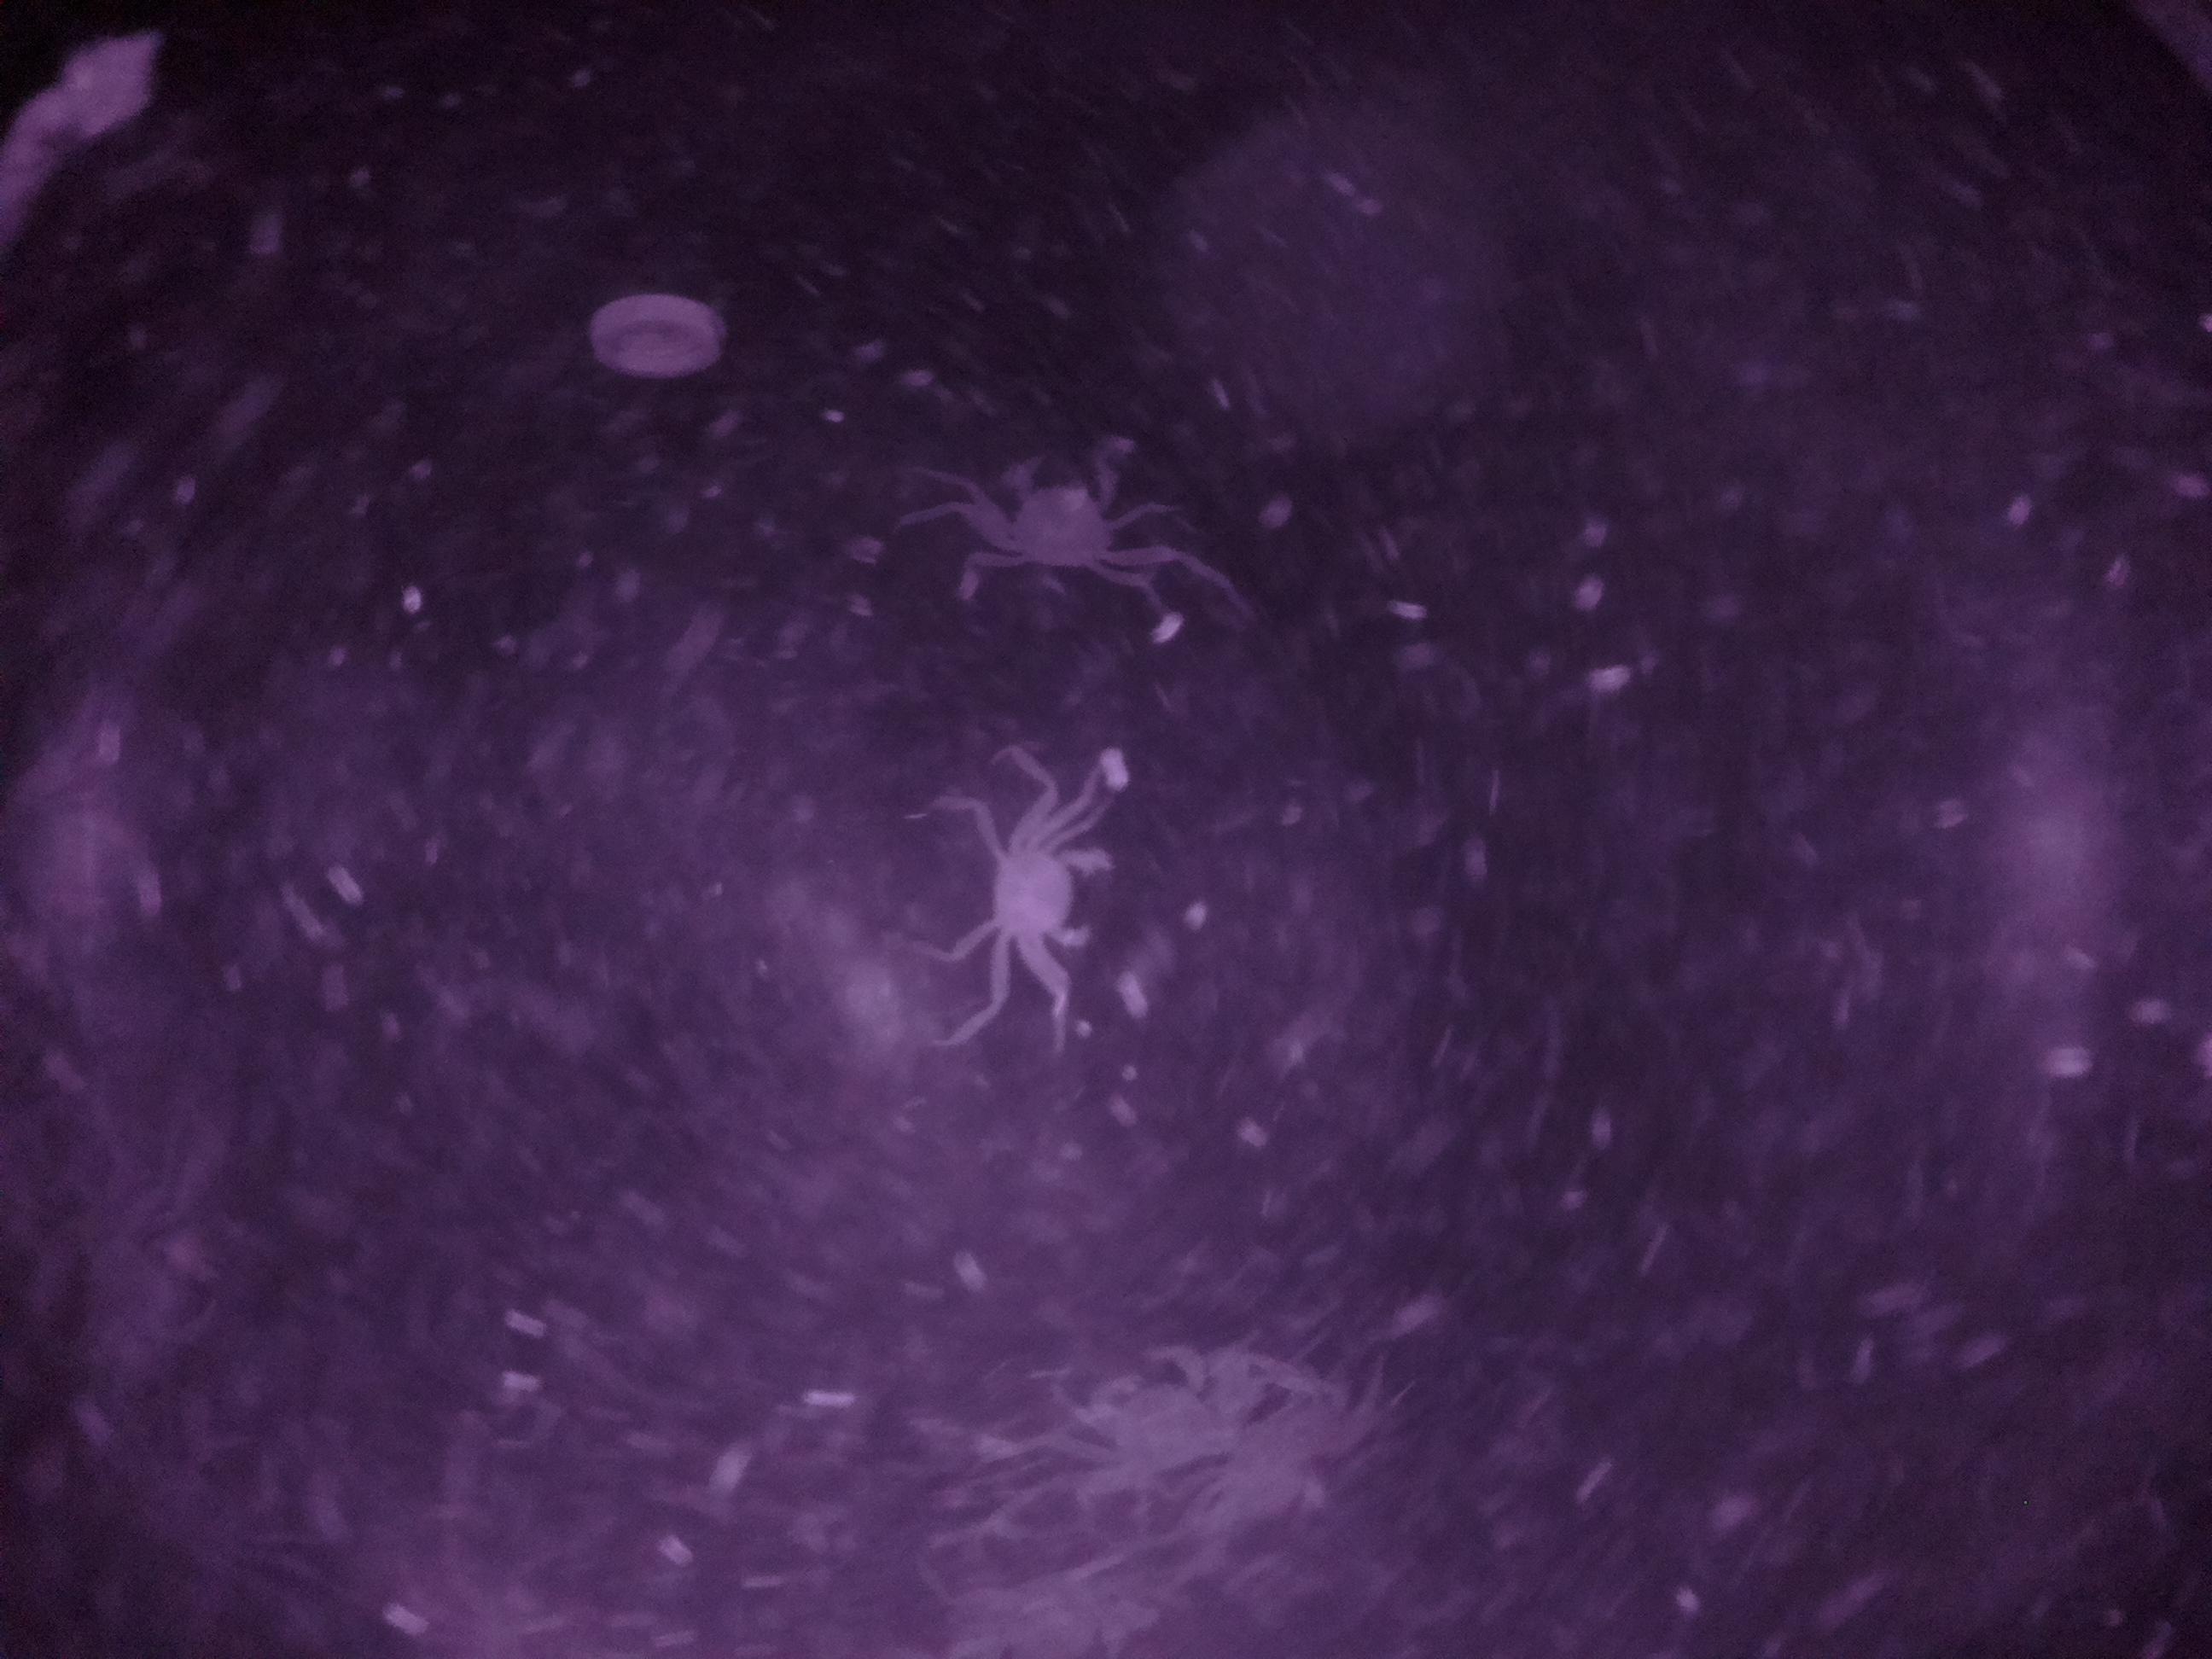Crab: (968, 425, 1176, 613), (951, 782, 1123, 993)
